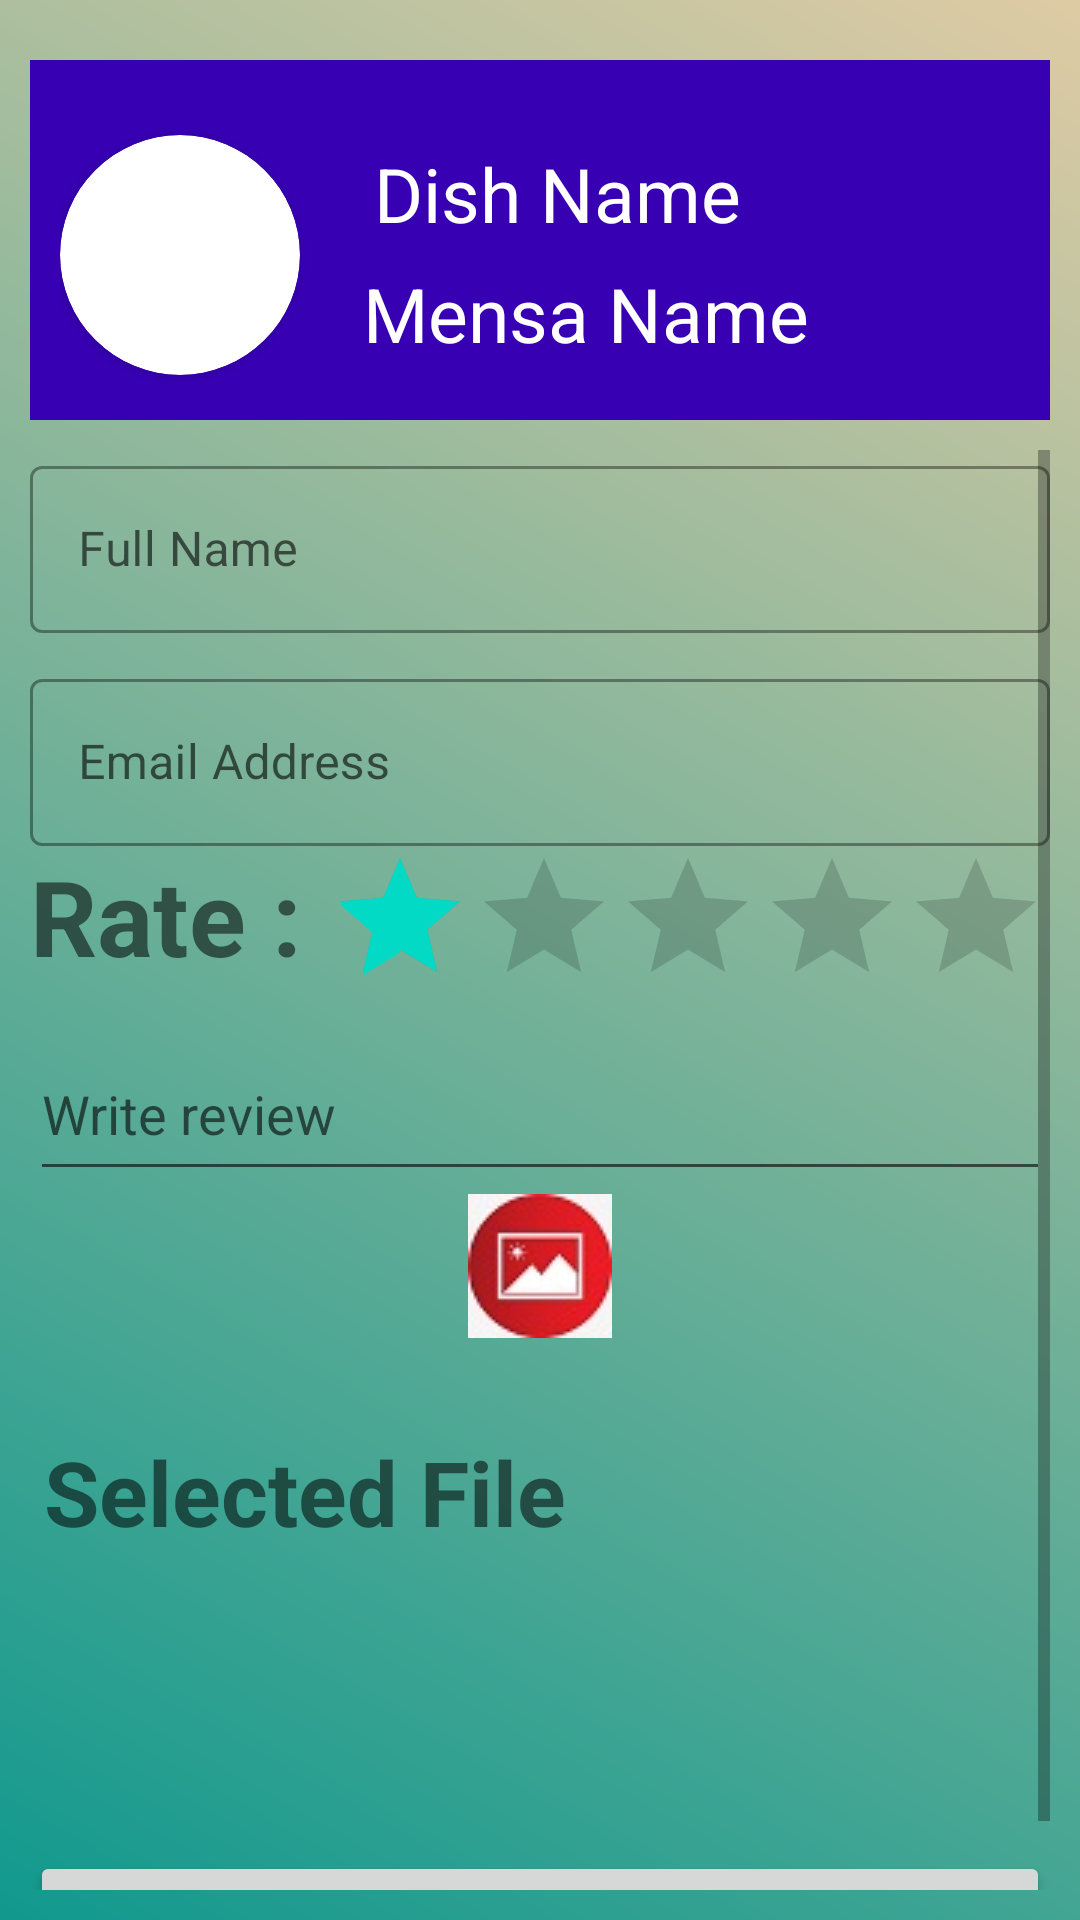

Icons on this 1080px×1920px Android screen, each with its box as bbox=[x1, y1, x2, y2]:
gallery: bbox=[468, 1194, 612, 1338]
